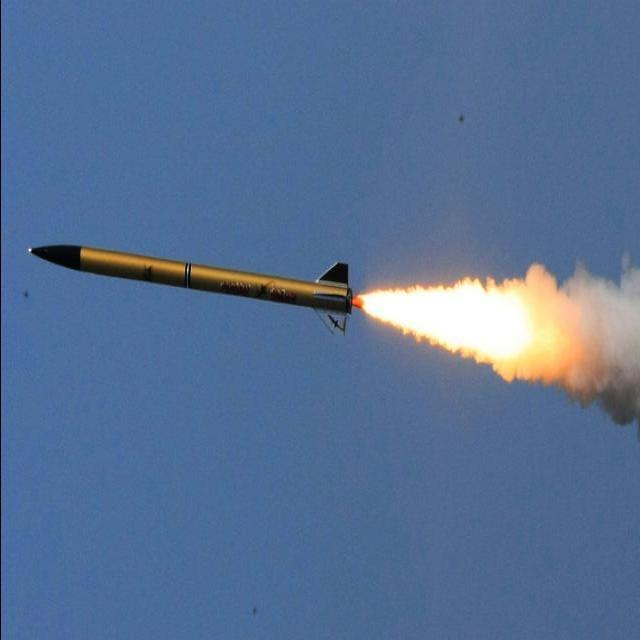missile: (23, 209, 359, 340)
